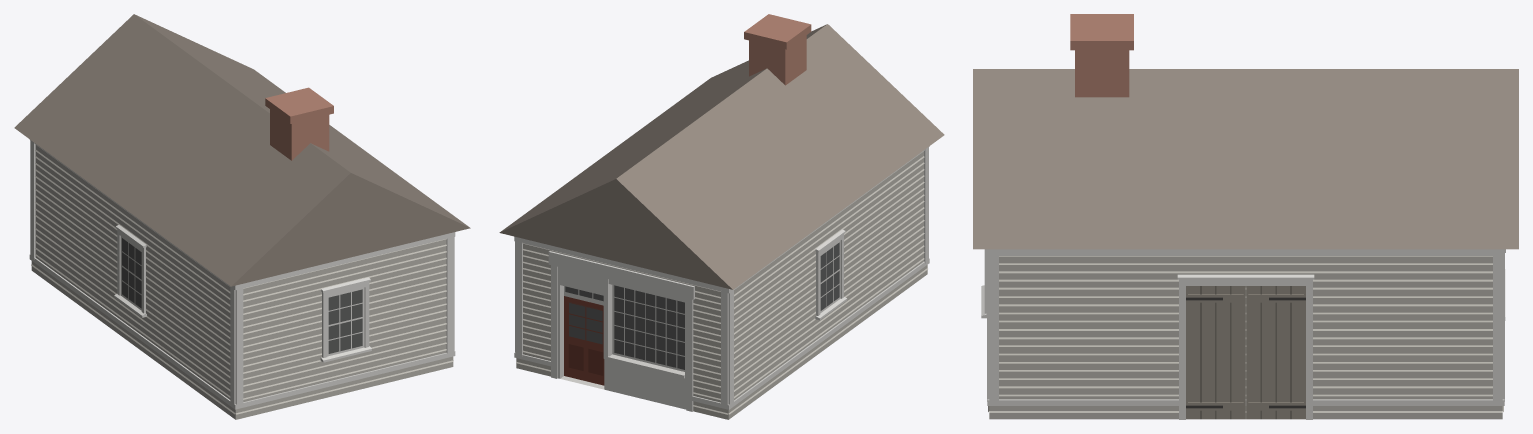
The model's file is recon_1835_west_007__inferred_1835.glb.
3 renders of one model, left to right at view 1: azimuth 30°, elevation 25°; view 2: azimuth 150°, elevation 25°; view 3: azimuth 270°, elevation 25°, orthographic. The views are drawn at different scales.
Parts seen in each view (by area): view 1: recon_1835_west_007__inferred_1835; view 2: recon_1835_west_007__inferred_1835; view 3: recon_1835_west_007__inferred_1835.
Boxes of the visible parts, bbox=[...] form: recon_1835_west_007__inferred_1835: bbox=[14, 14, 470, 419]; recon_1835_west_007__inferred_1835: bbox=[499, 14, 944, 419]; recon_1835_west_007__inferred_1835: bbox=[973, 14, 1518, 419].
Bounding box in the file's own units: 5.38 × 5.54 × 8.43.
